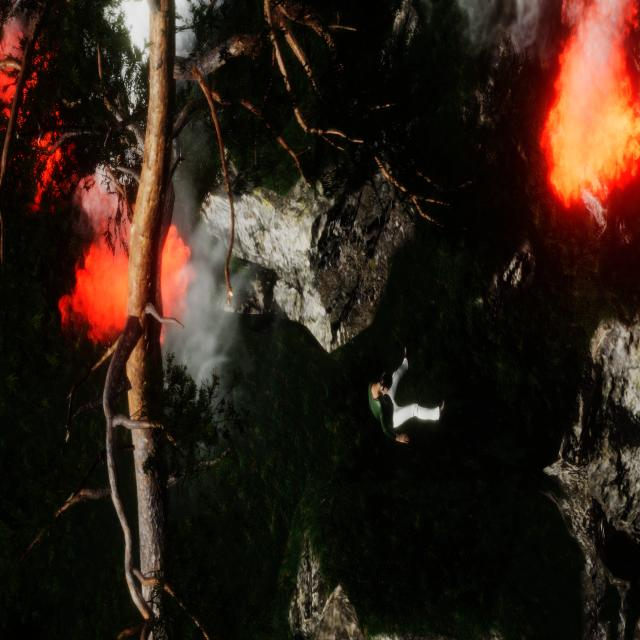Human: (367, 335, 452, 460)
